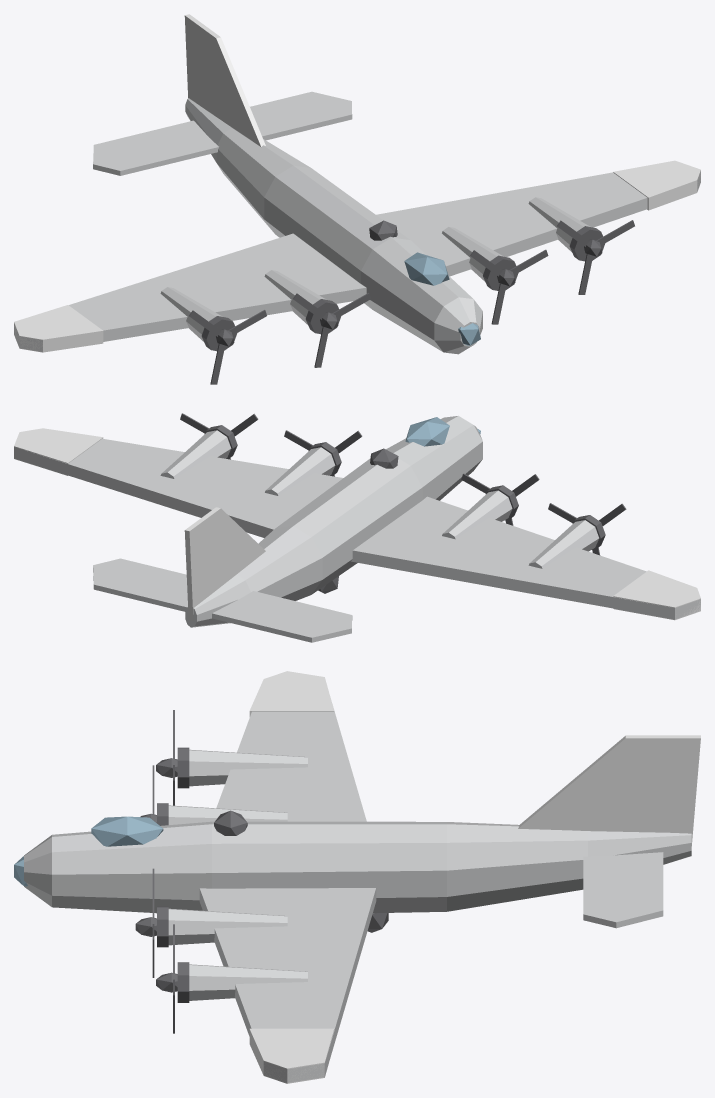
File: civ_unit_bomber.glb
3 views of the same model, one above another, from view 1: azimuth 30°, elevation 25°; view 2: azimuth 150°, elevation 25°; view 3: azimuth 270°, elevation 25° (orthographic). The views are drawn at different scales.
Visible parts, largest first — view 1: civ_unit_bomber; view 2: civ_unit_bomber; view 3: civ_unit_bomber.
Part boxes in pixels (bbox=[...]): civ_unit_bomber: bbox=[14, 14, 700, 384]; civ_unit_bomber: bbox=[14, 413, 700, 642]; civ_unit_bomber: bbox=[14, 671, 700, 1083].
Size of the model in its own units: 20 by 4.6 by 14.61.
